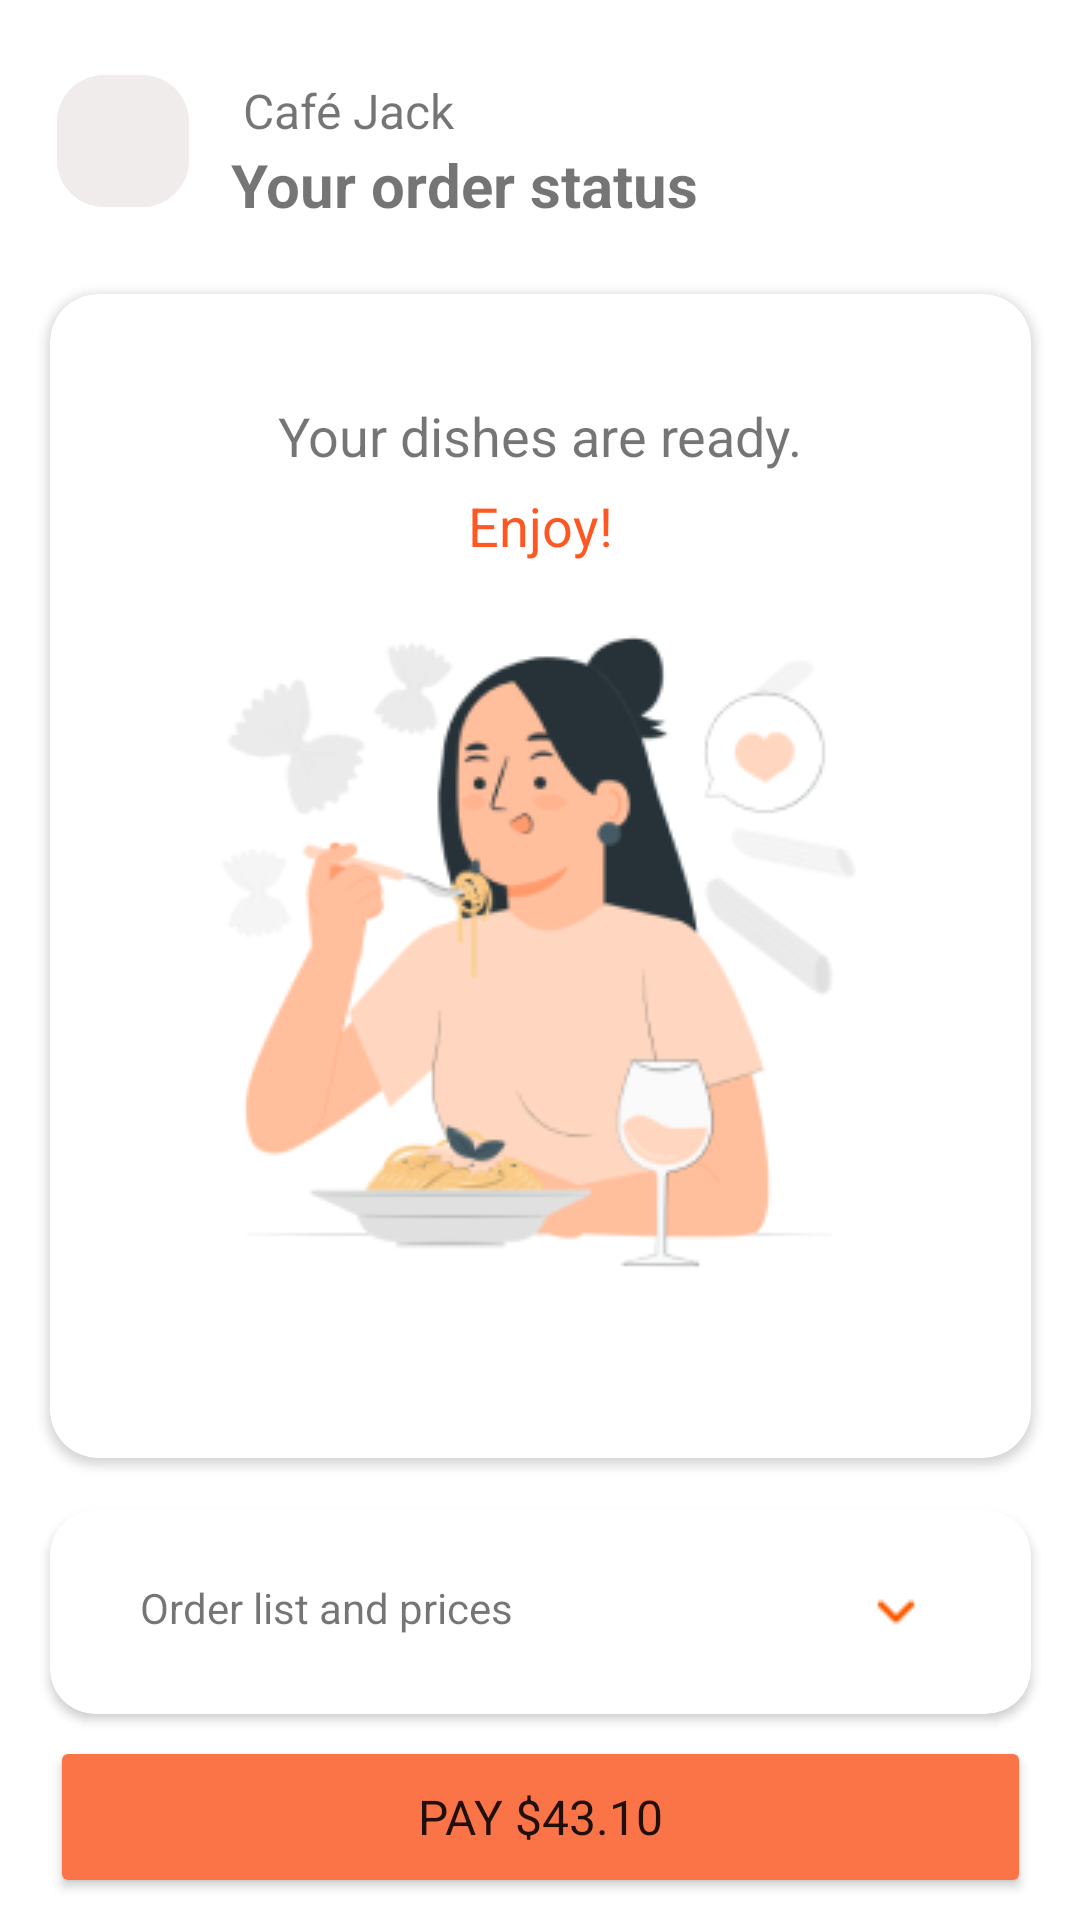

Icon click points for this 1080px x 1920px phone screenshot, format (x,y):
drop down: (896,1612)
